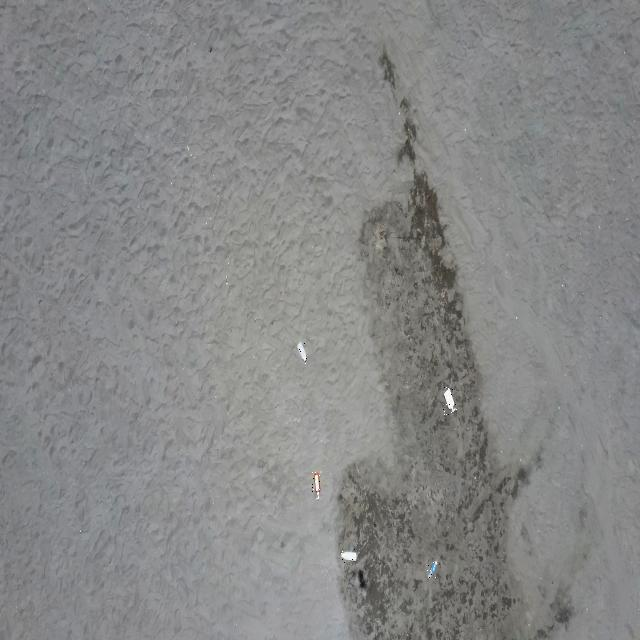plastic-bottle: (442, 387, 457, 415), (312, 472, 322, 502), (296, 341, 307, 364), (340, 548, 357, 562), (427, 560, 438, 580)
